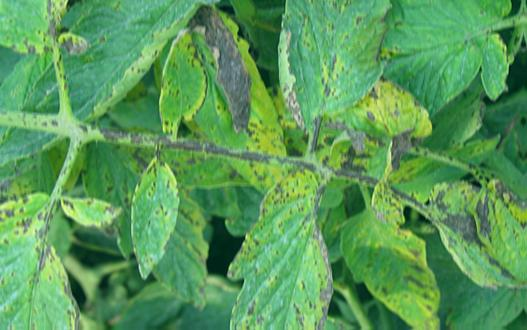Tomato leaf bacterial spot: (0, 0, 246, 166), (207, 171, 352, 330), (351, 0, 519, 124), (270, 0, 403, 143), (345, 204, 453, 330), (0, 180, 86, 330), (127, 156, 189, 284), (475, 172, 527, 302), (158, 34, 216, 141), (59, 197, 130, 235)
